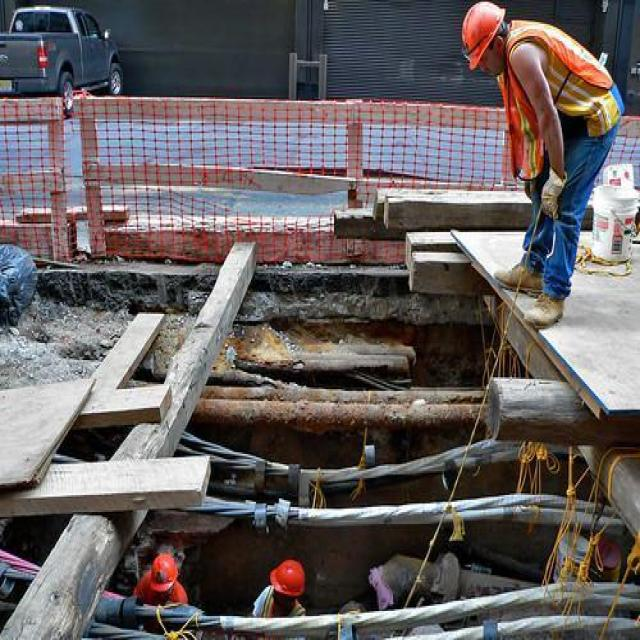Vest: (496, 22, 620, 181)
